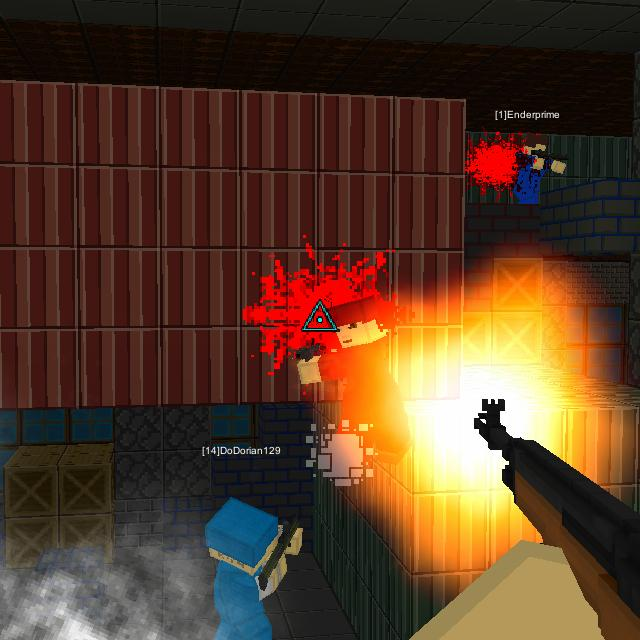enemy: (289, 292, 417, 464)
